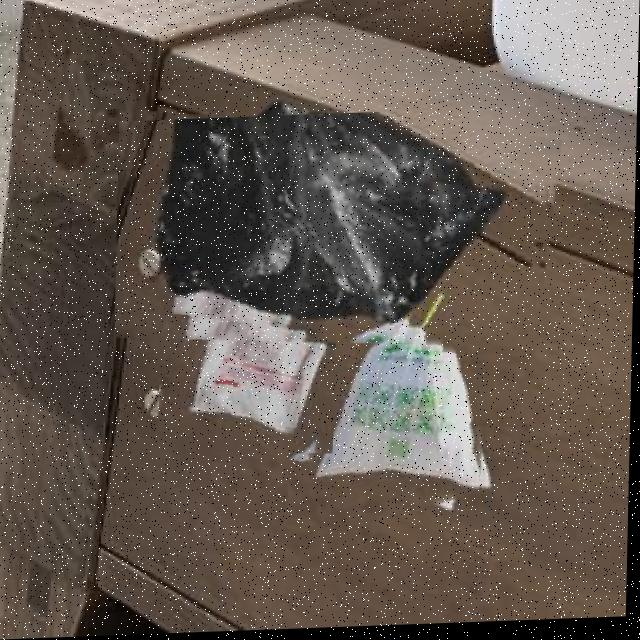plasticcover: (116, 110, 559, 363), (290, 248, 495, 531), (160, 292, 339, 462)
